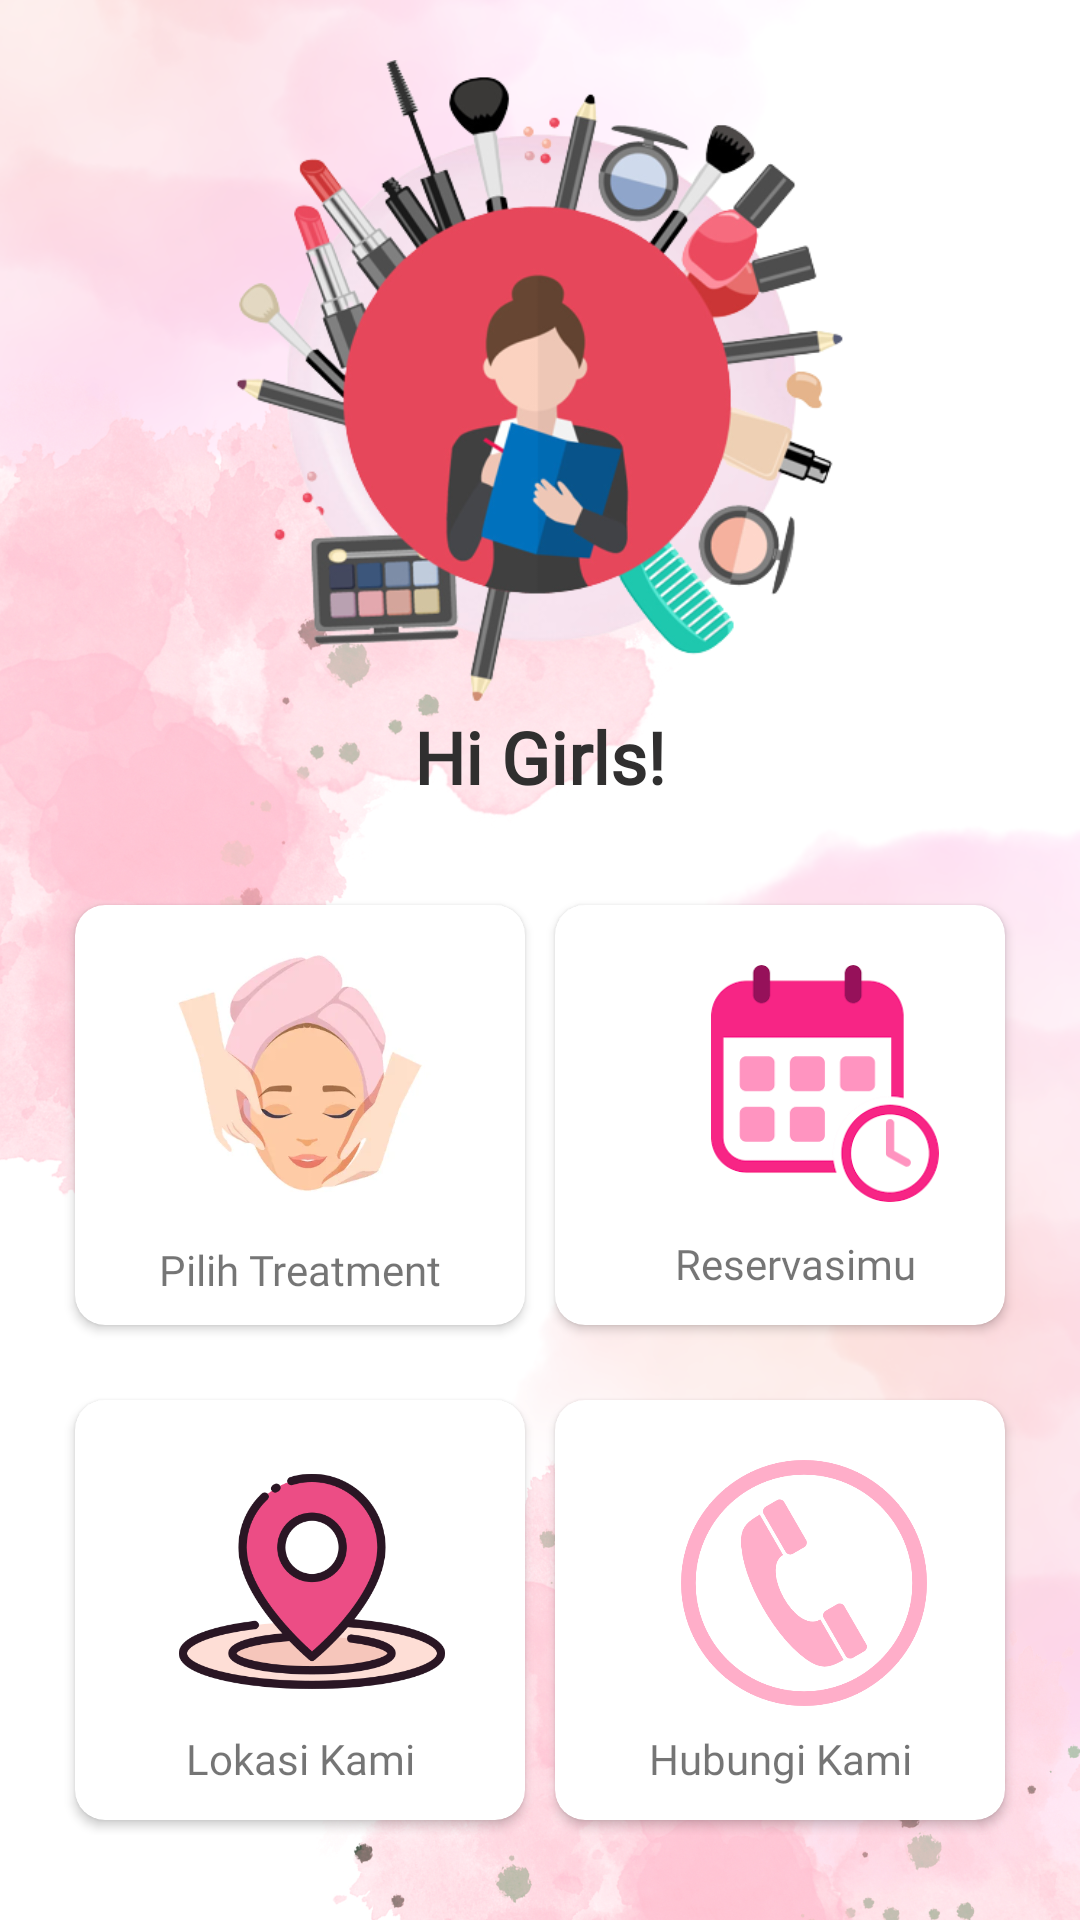

Where to tap for icons on this 1080*1920 app screen, as [x,y]:
pesanan: [825,1083]
telepon: [804,1583]
